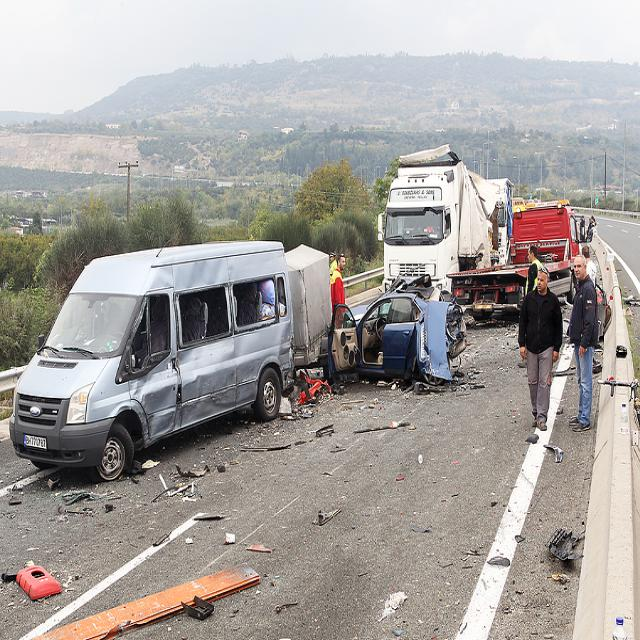Accident: (9, 235, 473, 480), (376, 138, 592, 330)
